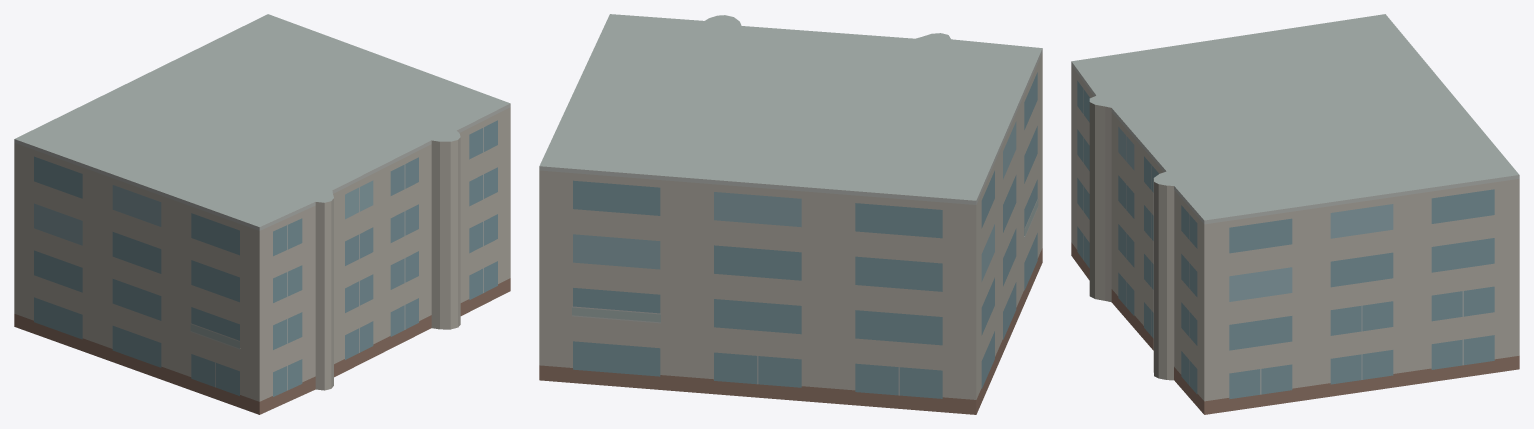
File: survey-upis-32835777.glb
3 renders of one model, left to right at view 1: azimuth 30°, elevation 25°; view 2: azimuth 150°, elevation 25°; view 3: azimuth 270°, elevation 25°, orthographic. The views are drawn at different scales.
Visible parts, largest first — view 1: survey-upis-32835777.tmp; view 2: survey-upis-32835777.tmp; view 3: survey-upis-32835777.tmp.
Boxes of the visible parts, <box> form: survey-upis-32835777.tmp: <box>14,14,510,414</box>; survey-upis-32835777.tmp: <box>539,14,1042,414</box>; survey-upis-32835777.tmp: <box>1071,14,1519,414</box>.
Bounding box in the file's own units: 27.81 × 12.2 × 25.5.
